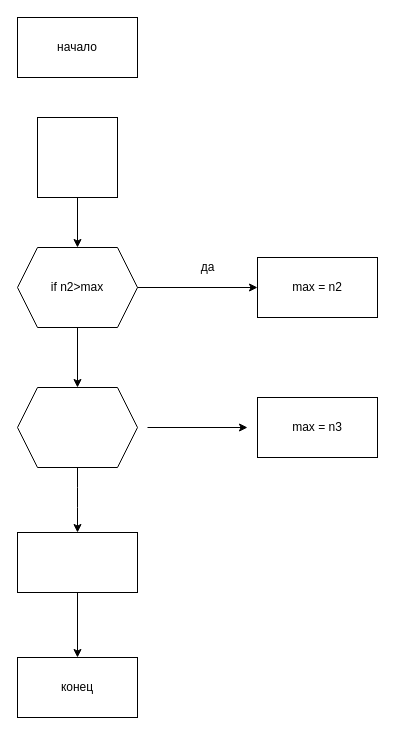
Image size: 395x735. Some labels were removed from this diagram. Here are the shapes that lost their labels. From the top down, the centre of each, then its label:
(x=77, y=157): n1 = 3 n2 = 7 n3 = 5 max = n1
(x=77, y=427): if n3>max
(x=77, y=562): max
